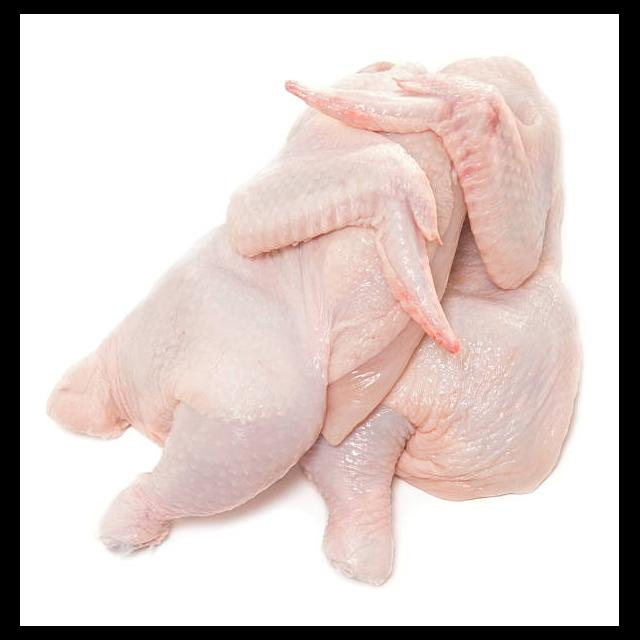chicken: (44, 50, 586, 587)
